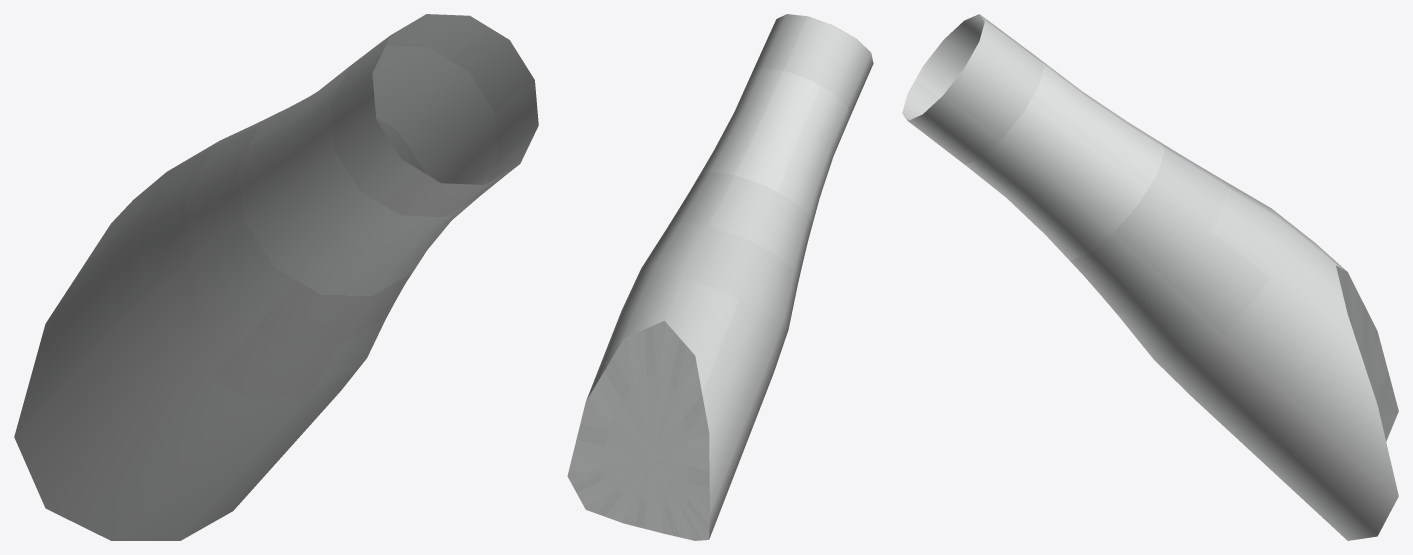
Rendered from luminairearm_caltrans8ftdouble_c5_pedestal.obj.
3 views of the same model, side by side, from view 1: azimuth 30°, elevation 25°; view 2: azimuth 150°, elevation 25°; view 3: azimuth 270°, elevation 25° (orthographic). The views are drawn at different scales.
Parts seen in each view (by area): view 1: luminairearm_caltrans8ftdouble_c5_pedestal; view 2: luminairearm_caltrans8ftdouble_c5_pedestal; view 3: luminairearm_caltrans8ftdouble_c5_pedestal.
Part boxes in pixels (box(x1,y1,x2,y2)): luminairearm_caltrans8ftdouble_c5_pedestal: box(14, 14, 538, 540); luminairearm_caltrans8ftdouble_c5_pedestal: box(567, 14, 873, 540); luminairearm_caltrans8ftdouble_c5_pedestal: box(902, 14, 1398, 540).
Bounding box in the file's own units: 0.3375 × 0.9332 × 0.833.
